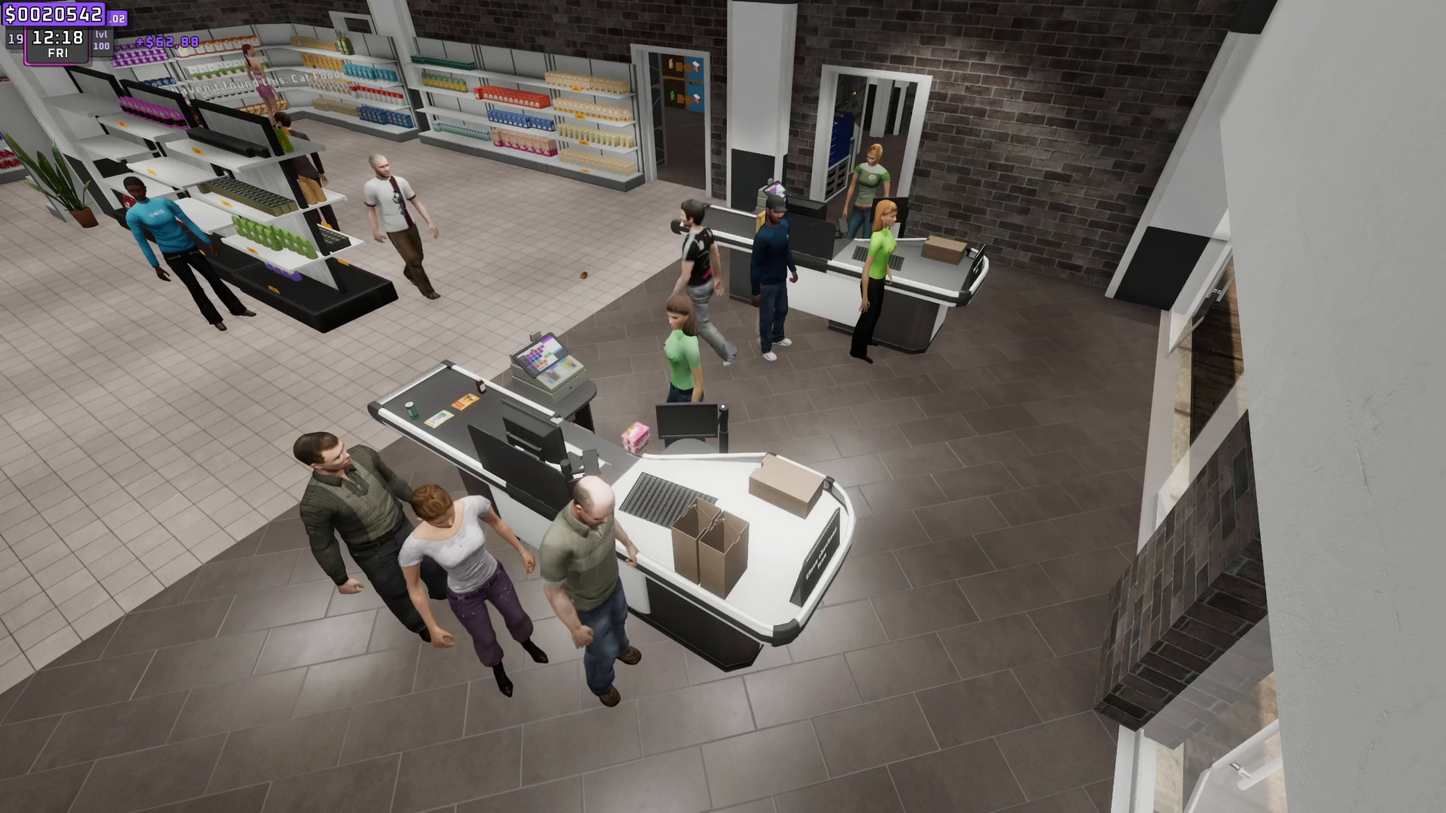Client: (293, 428, 458, 627), (399, 483, 551, 692), (540, 475, 655, 698), (665, 200, 739, 362), (752, 194, 800, 354), (857, 199, 893, 367)
Employee: (652, 305, 705, 407), (847, 144, 885, 234)
